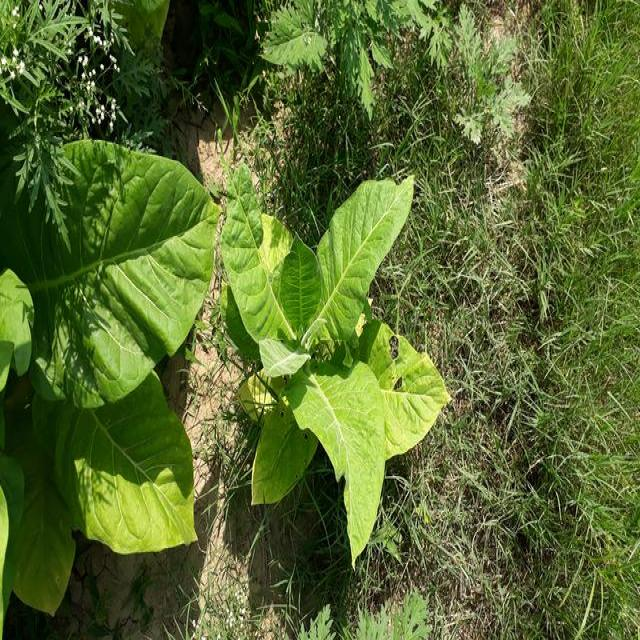crop: (12, 159, 203, 612), (222, 172, 438, 546)
